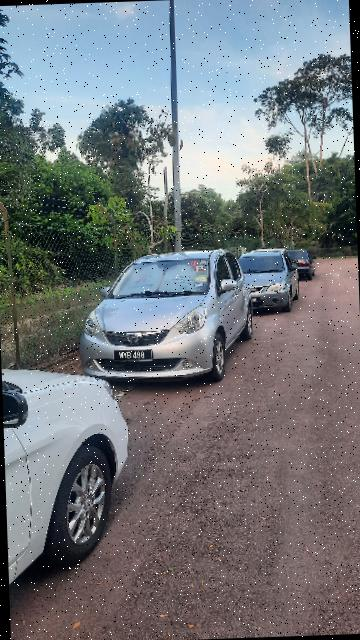License_Plate: (113, 349, 155, 364)
car: (77, 248, 259, 391)
